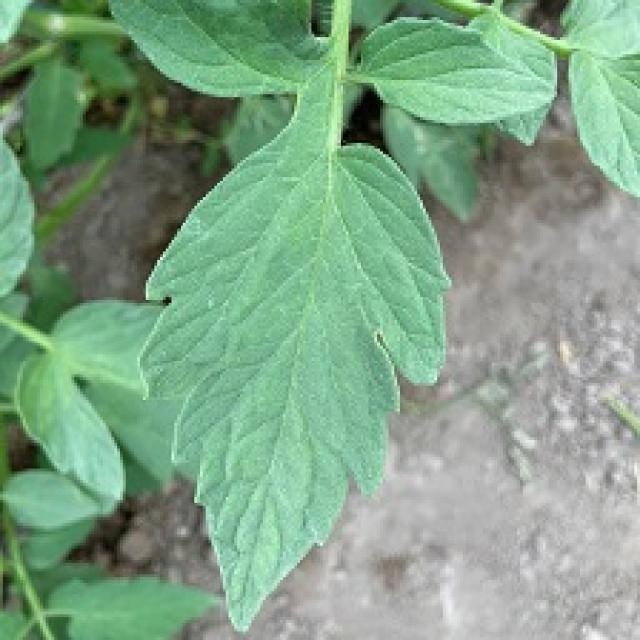Healthy: (105, 0, 608, 636)
